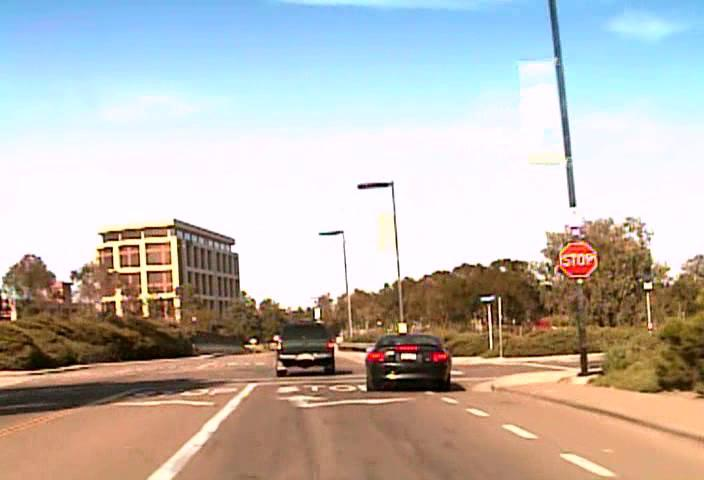stop: (558, 240, 598, 278)
